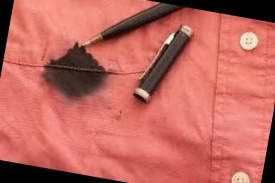ink: (43, 47, 105, 96)
